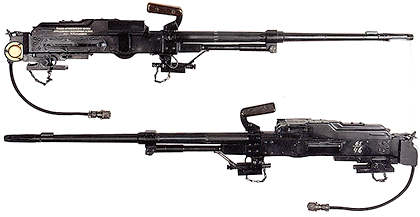rifle: (8, 115, 419, 204), (2, 7, 413, 96)
